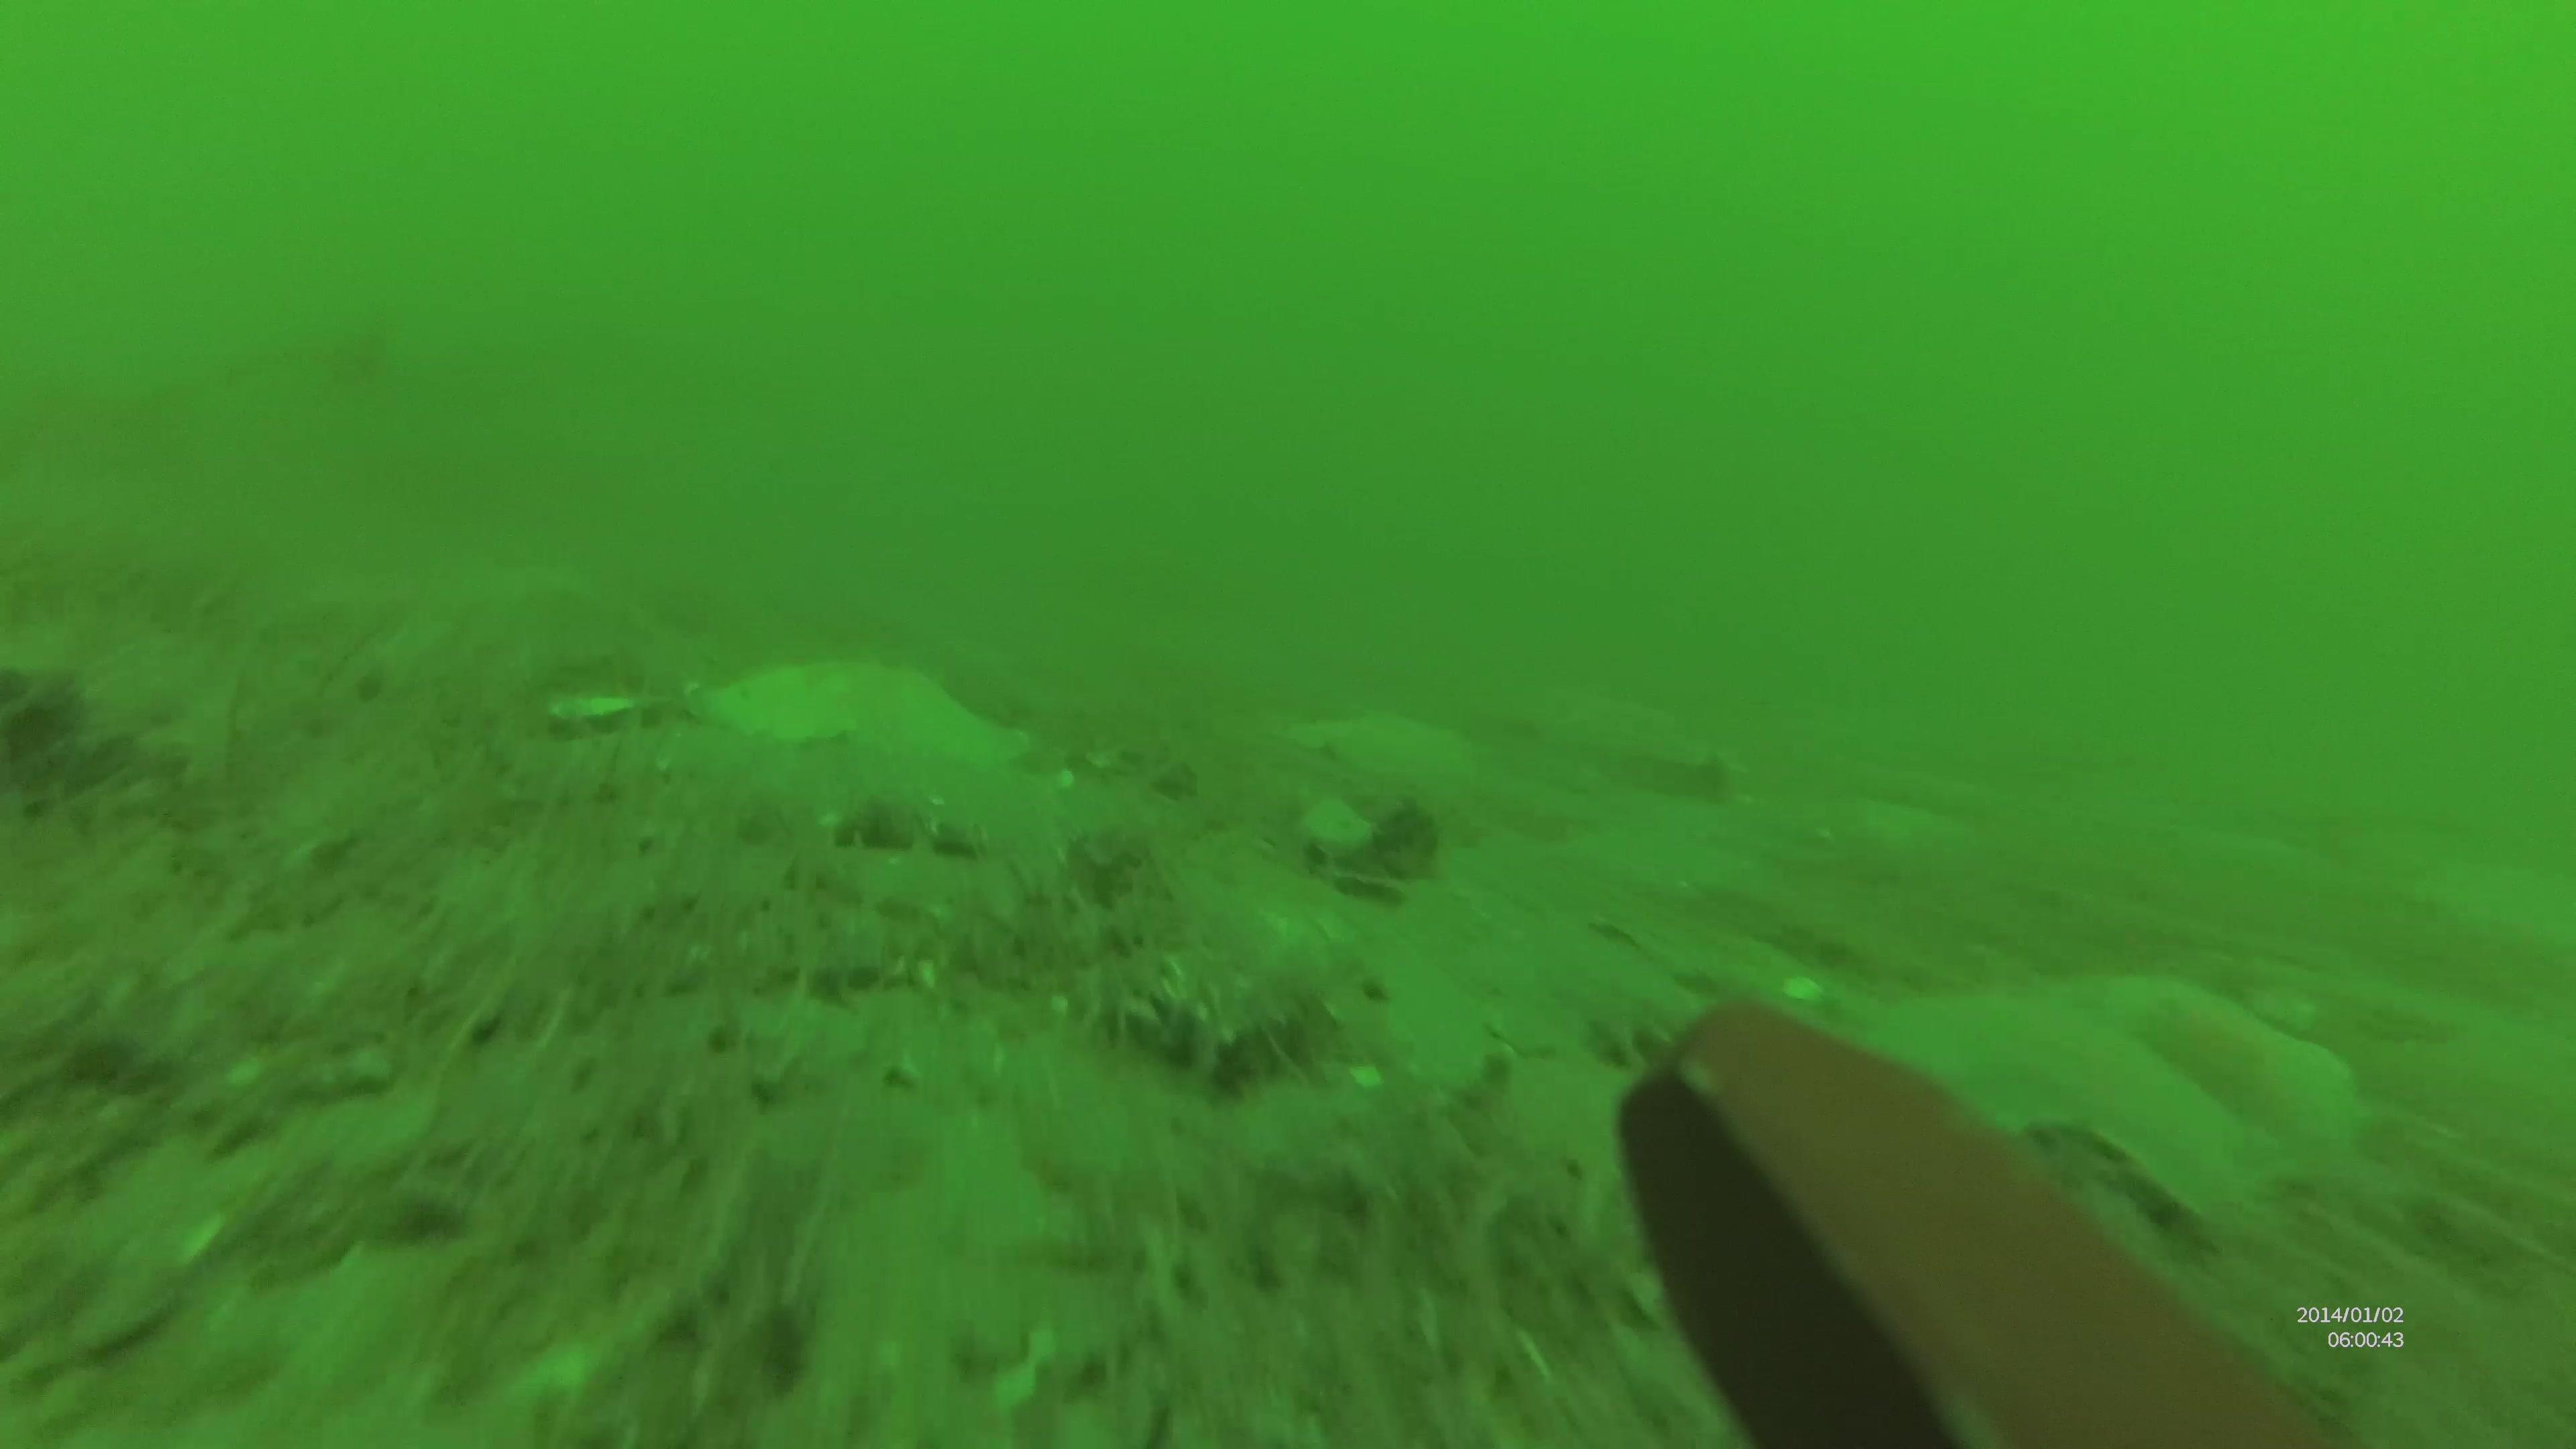starfish: (1863, 970, 2367, 1226), (685, 642, 1037, 775), (1292, 699, 1495, 796)
